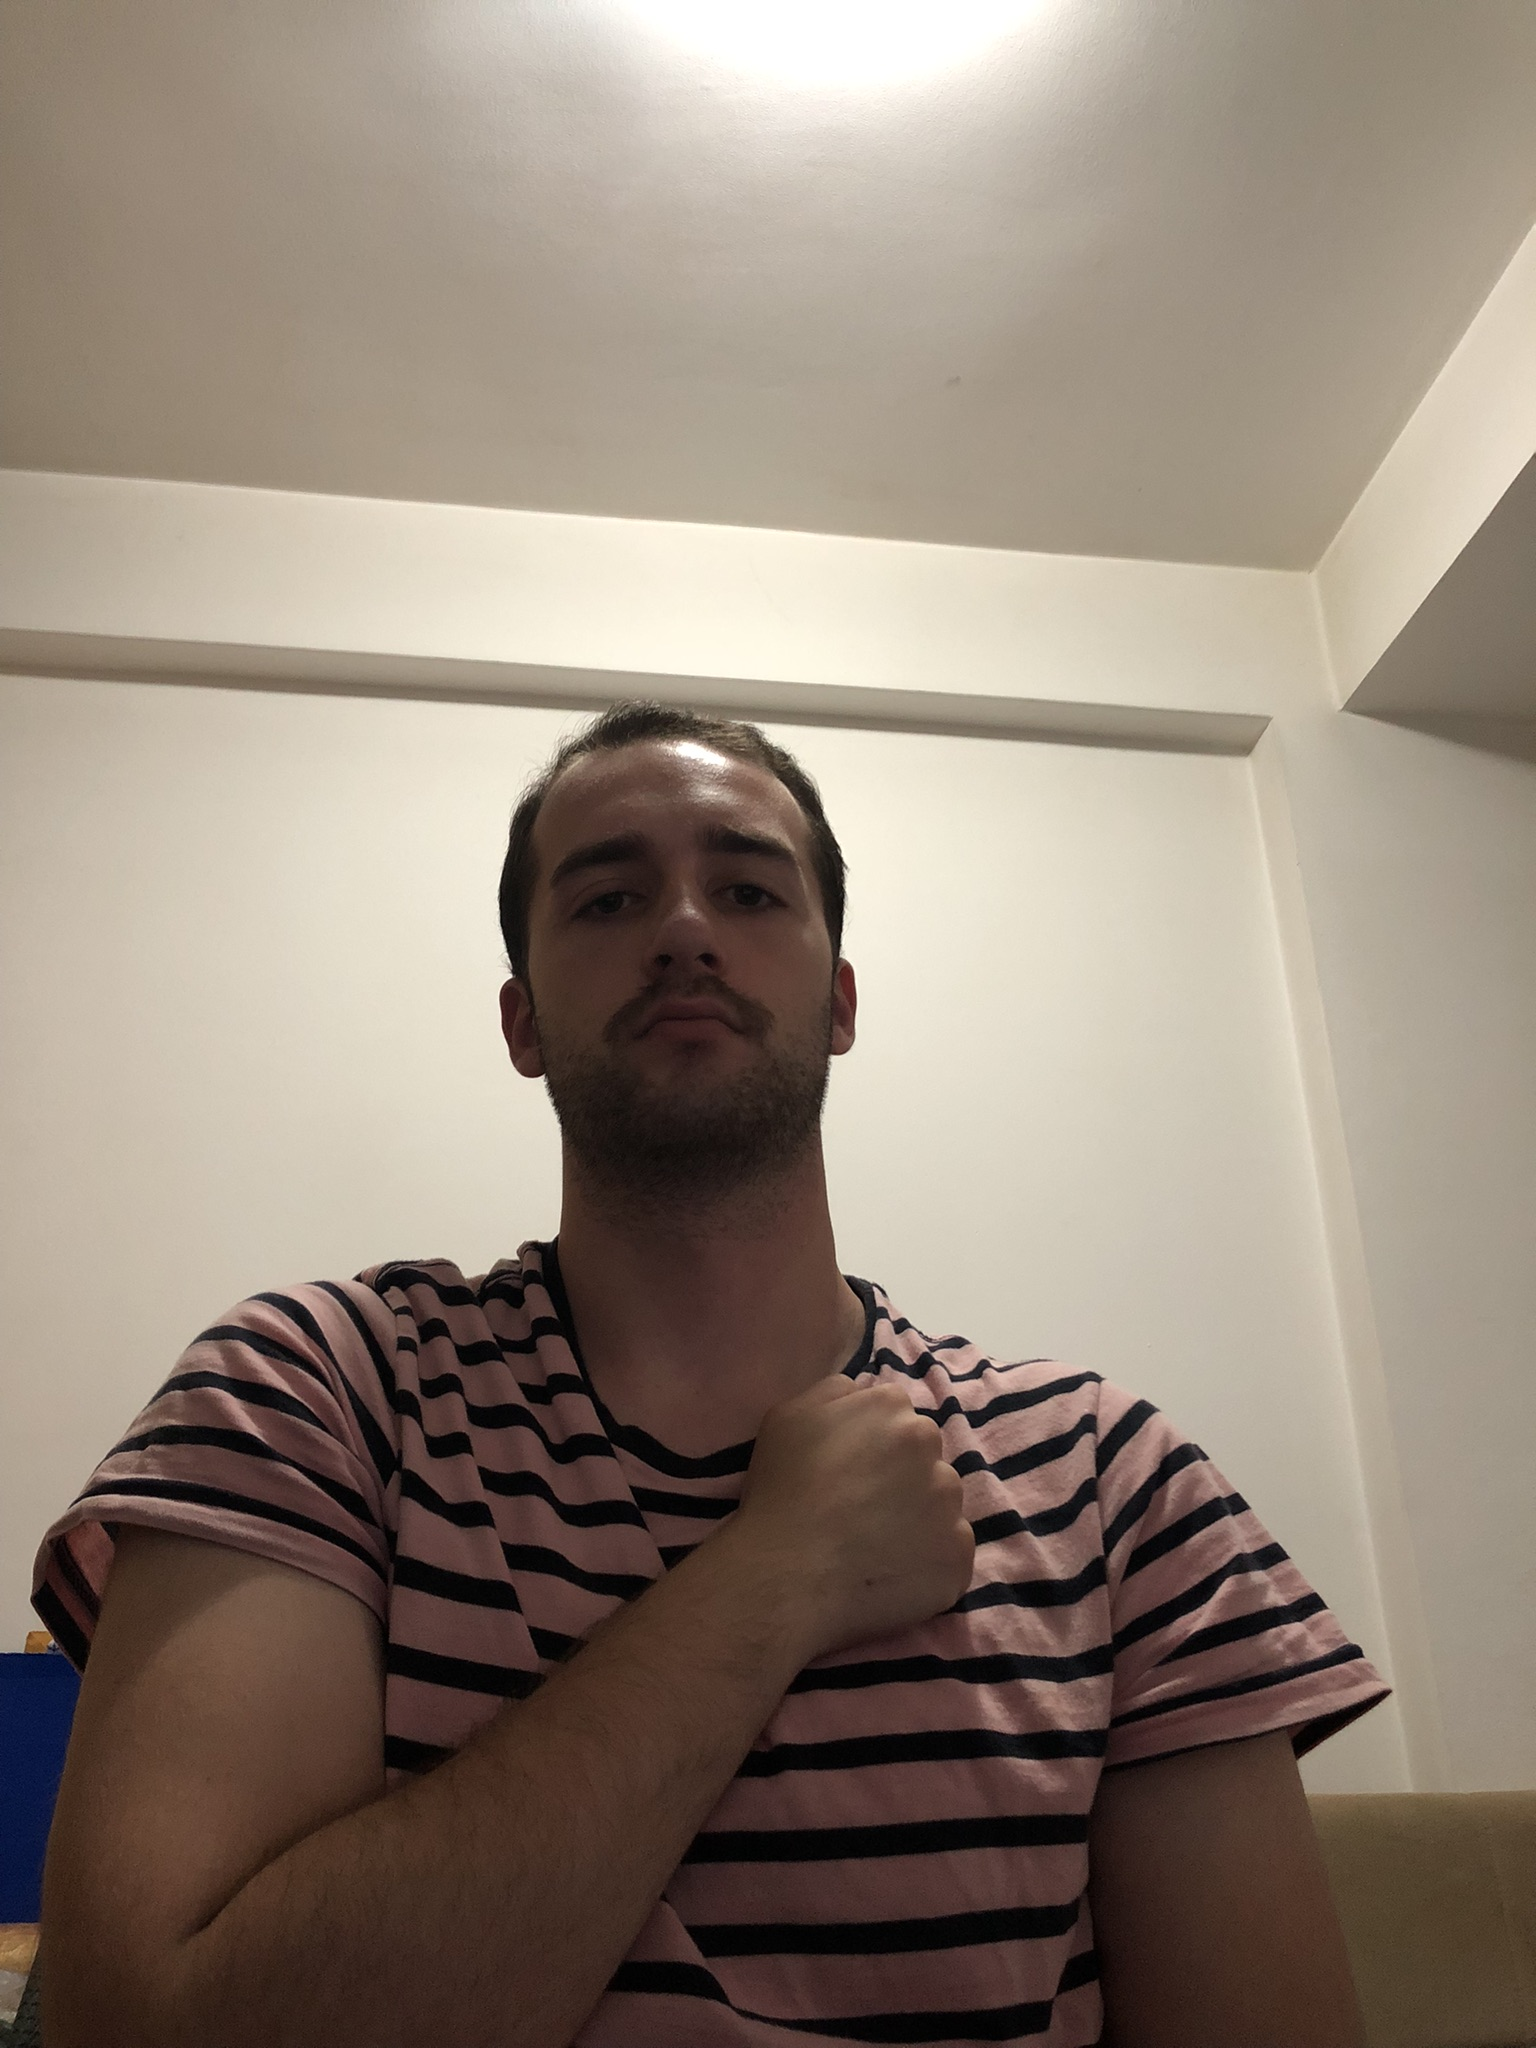Sorry: (35, 1364, 978, 2048)
